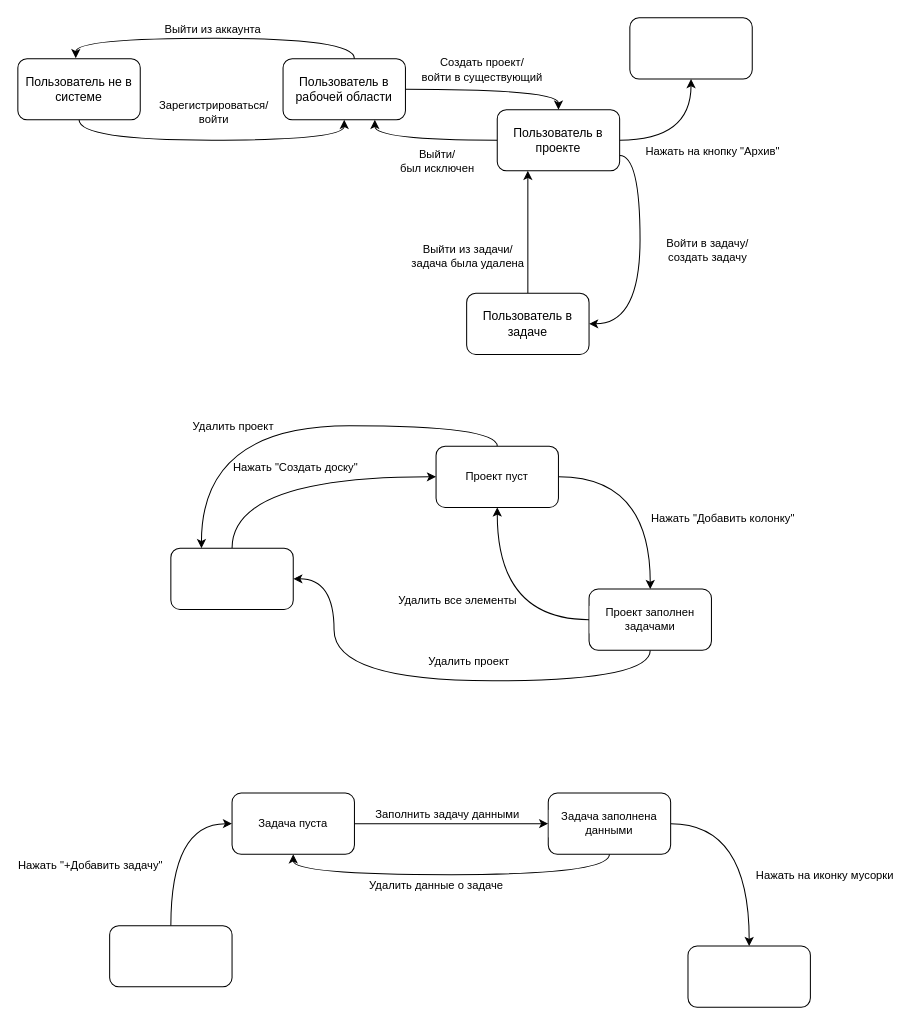
This 911x1025 diagram has some shape labels left out. The centre of each missing label's shape, as x and y in pixels:
Задача архивирована: the point at 748,976
Задача не создана: the point at 170,956
Пользователь в архиве: the point at 690,48
Проект не существует: the point at 231,578
